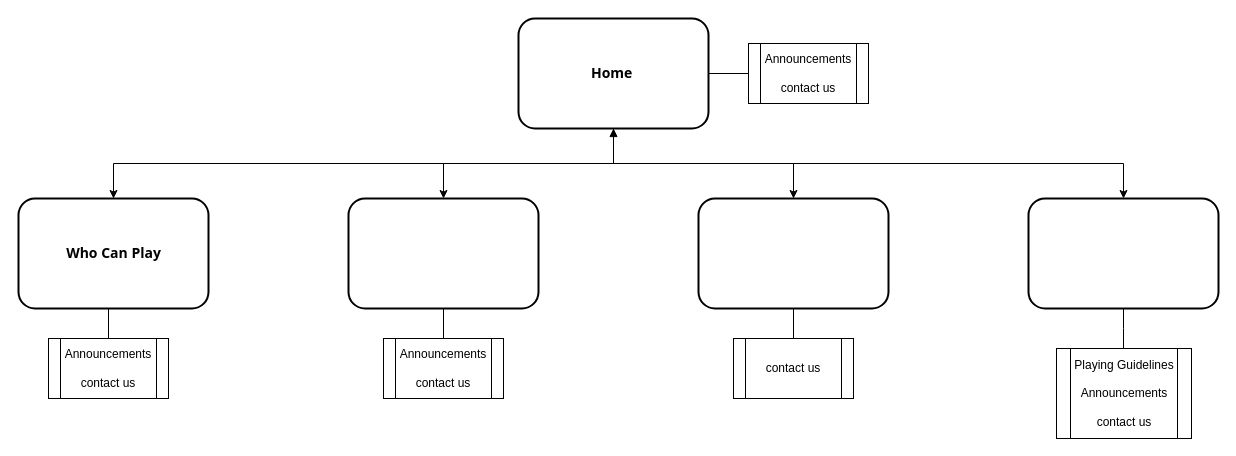
Some shapes in this 1236 by 456 pixel diagram are drawn without their labels. Here are the shapes that lost their labels. From the top down, the centre of each, then its label:
At point 443,253: "About Volleyball".
At point 793,253: "Competitive Ladder".
At point 1123,253: "Sign-up".
